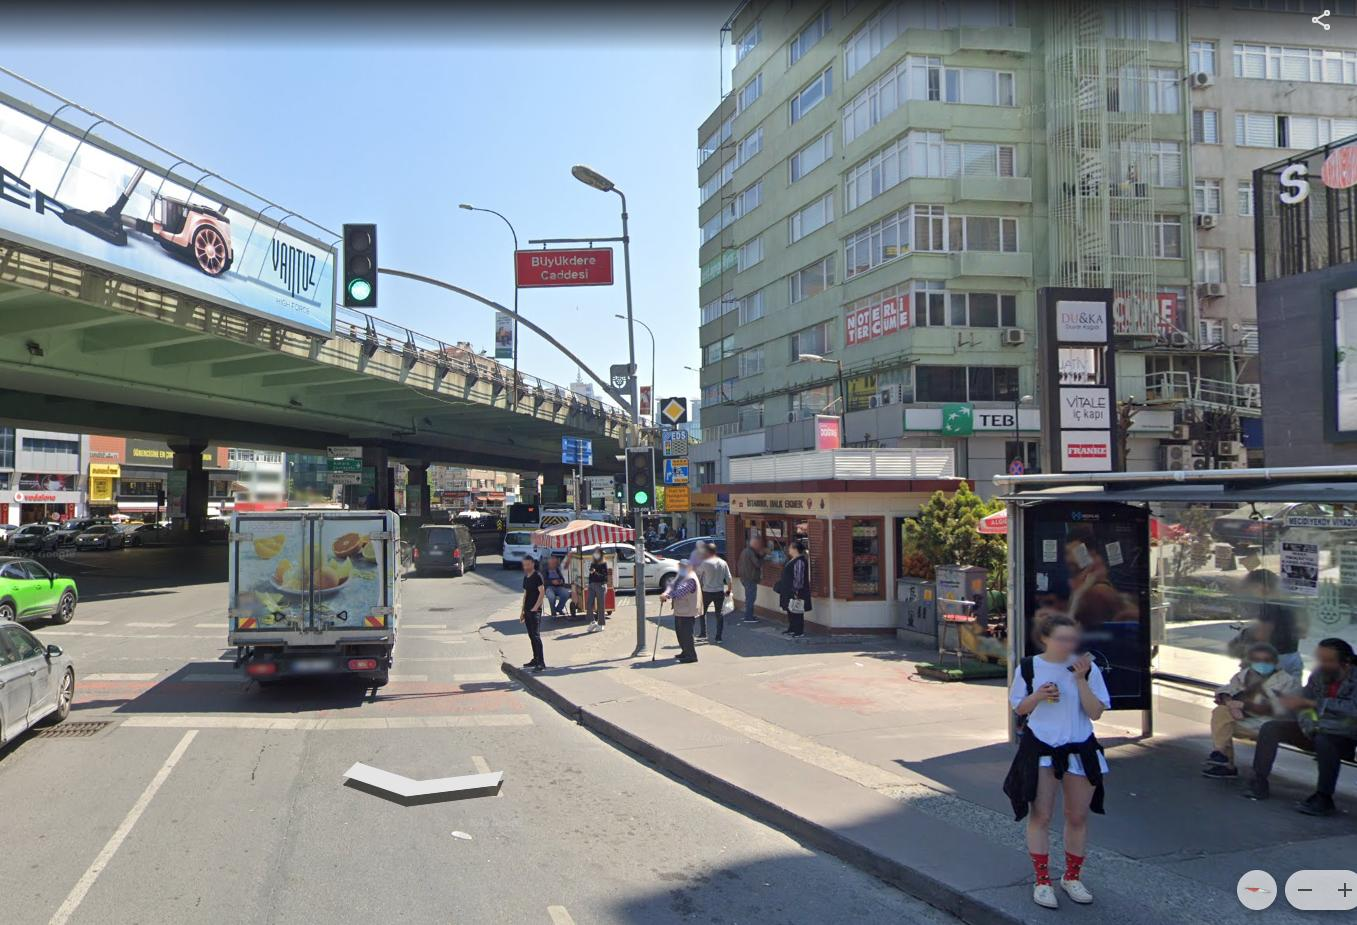greenlight: (342, 223, 373, 310), (628, 449, 651, 510)
